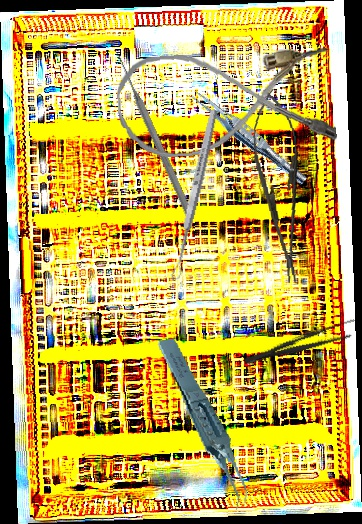Cannula: (114, 44, 338, 161)
Dressing Forceps: (241, 316, 360, 371)
Needle Holder: (244, 86, 315, 286)
Pusher: (113, 52, 197, 221)
Surgical Spoon: (169, 108, 220, 281)
Tissue Forceps: (156, 330, 251, 519), (186, 86, 312, 188)
